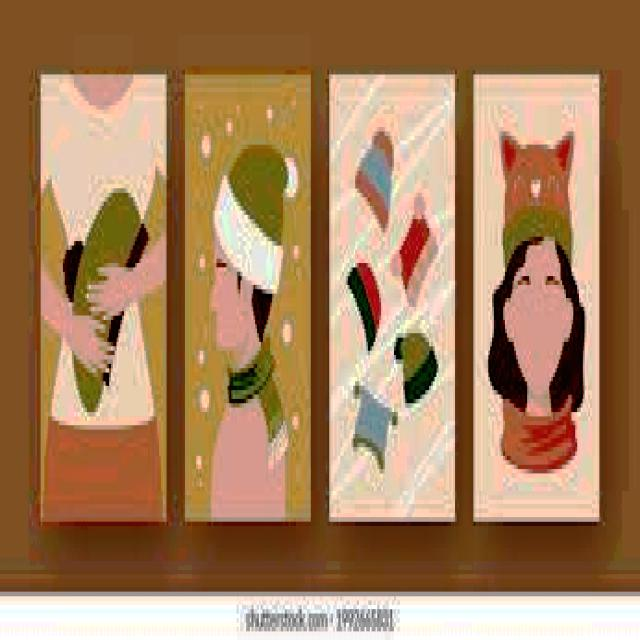TOPI: (59, 175, 148, 412), (207, 136, 300, 289), (496, 114, 575, 272), (388, 184, 441, 307), (348, 119, 398, 232), (348, 372, 400, 473), (388, 311, 438, 408), (344, 254, 385, 355)
